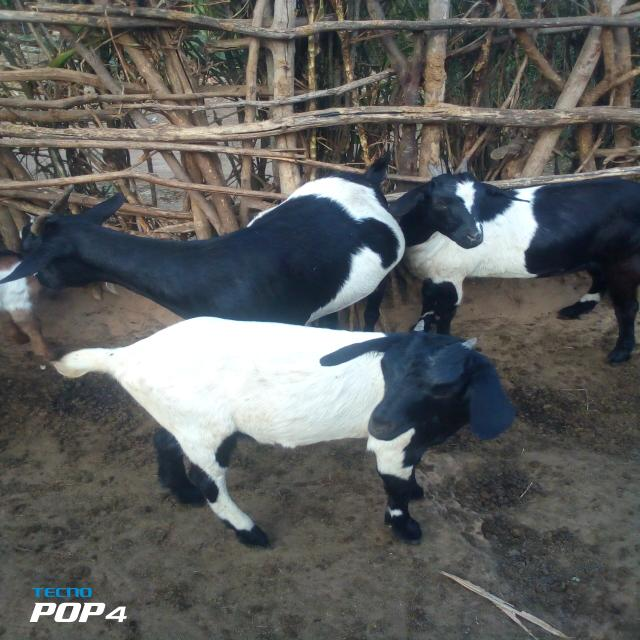goat: (27, 298, 561, 578)
